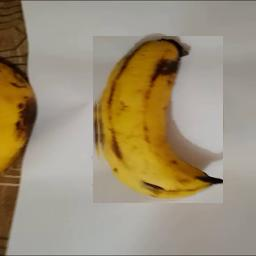Banana Semifresh: (93, 36, 223, 203)
